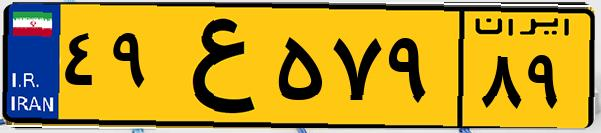4: (57, 26, 110, 100)
5: (270, 28, 330, 110)
7: (330, 28, 385, 110)
8: (475, 38, 525, 113)
9: (385, 28, 445, 110), (525, 38, 570, 115), (110, 28, 158, 98)
ع: (158, 12, 270, 120)
